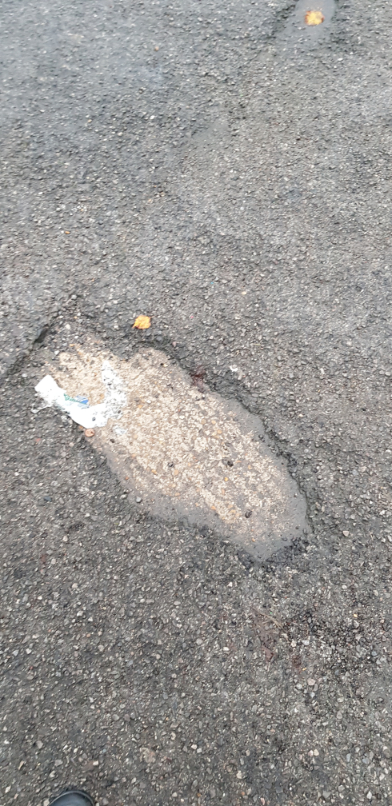pothole: (8, 300, 320, 571)
